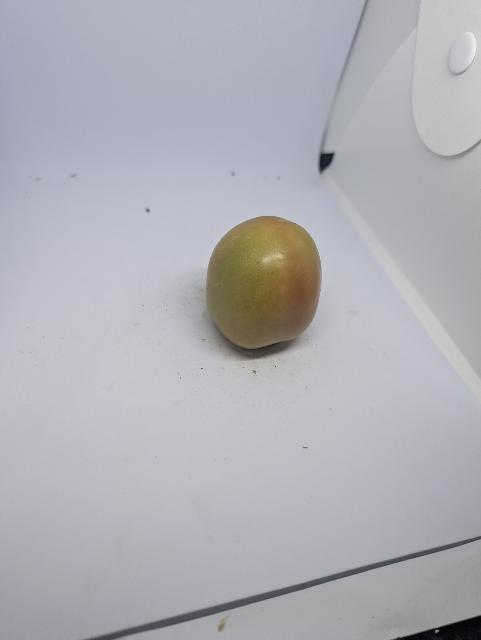breaker: (197, 212, 336, 358)
